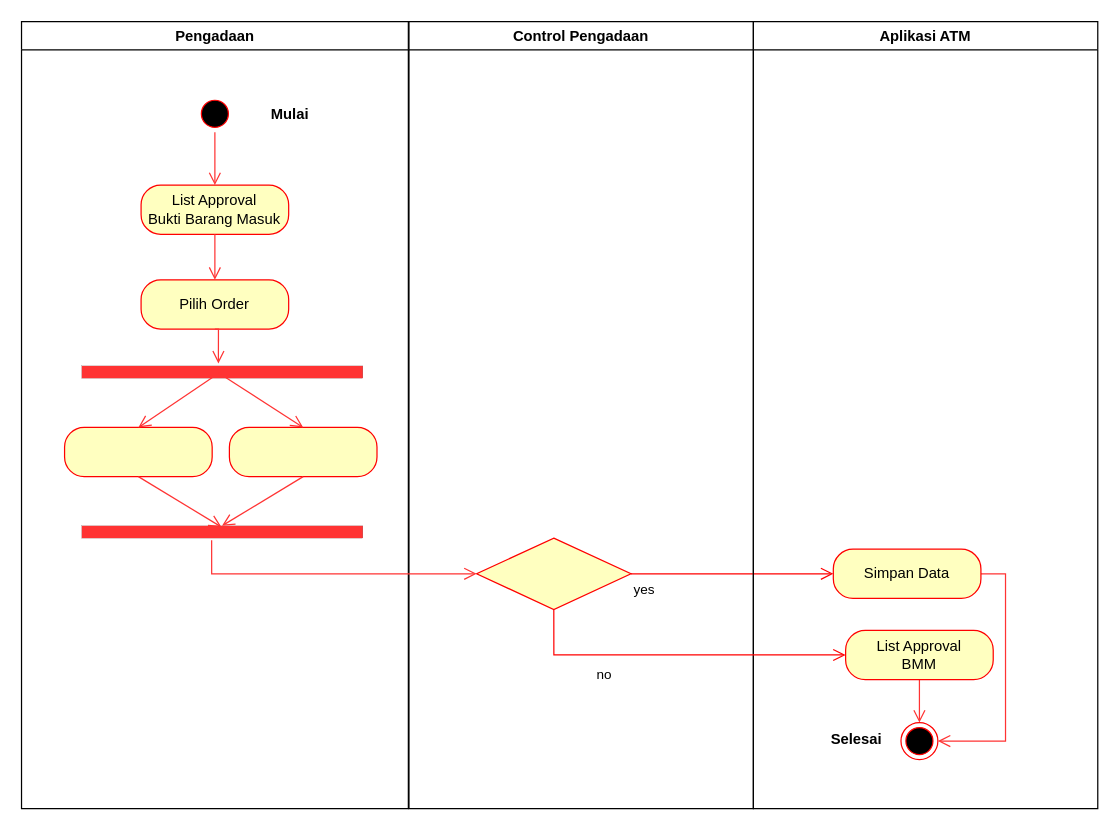
Image size: 1119x830. Some labels were removed from this diagram. Here are the shapes that lost their labels. From the top down, the centre of each, then its label:
At (137,451): "Approval Accept".
At (302,451): "Approval Reject".
At (553,573): "tekan simpan".
